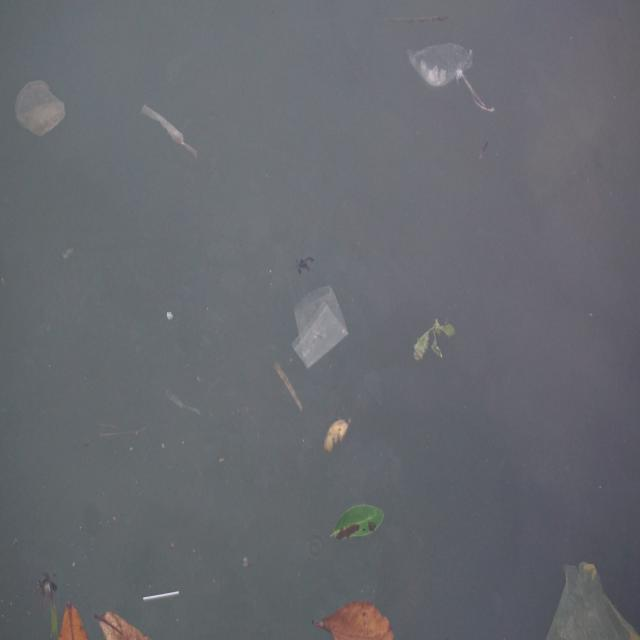Kantong Plastik: (540, 551, 640, 640), (408, 35, 495, 126), (293, 285, 351, 377), (15, 72, 67, 137)
